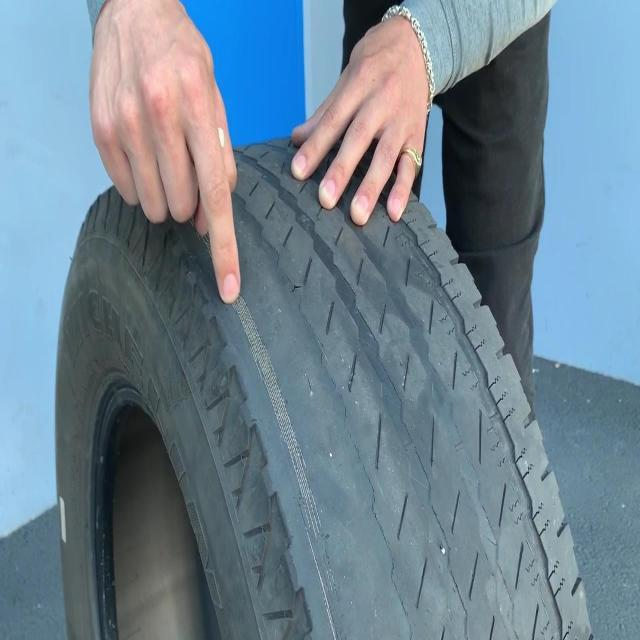Flat spots: (240, 281, 428, 627)
